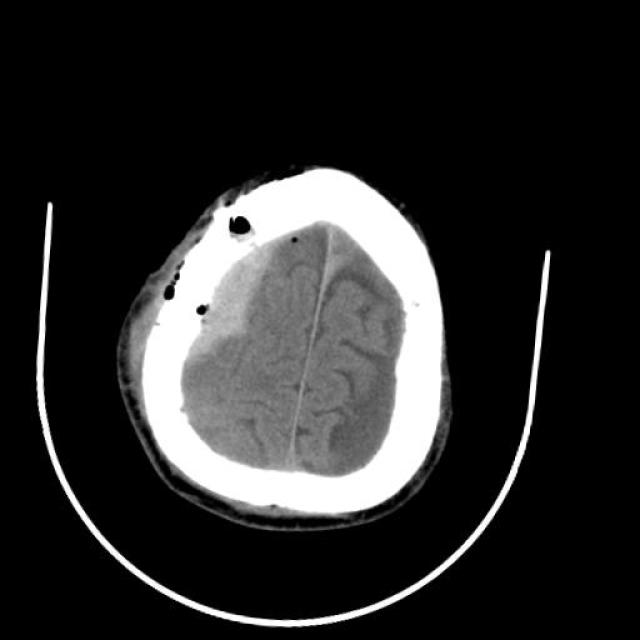Subdural: (159, 220, 290, 382)
